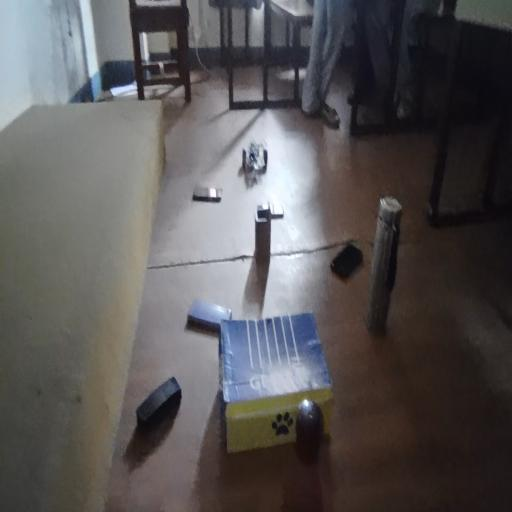car: (241, 131, 273, 187)
